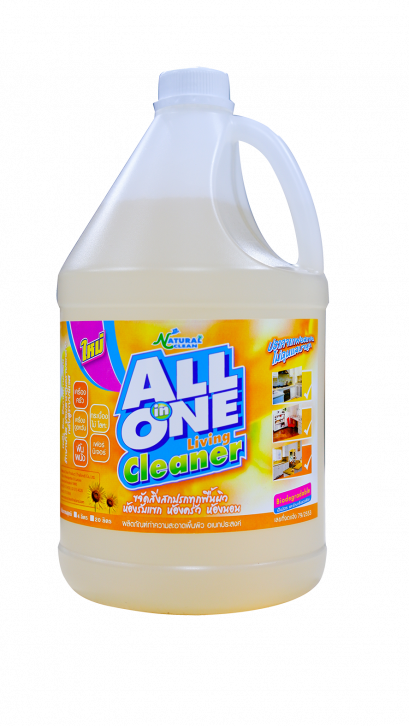Cleaning_solution: (44, 64, 336, 626)
